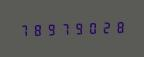eight: (115, 18, 128, 35), (31, 21, 44, 37)
nine: (45, 20, 58, 37), (73, 19, 86, 36)
seven: (17, 21, 30, 38), (59, 20, 72, 36)
two: (101, 18, 114, 35)
zero: (87, 19, 100, 36)
